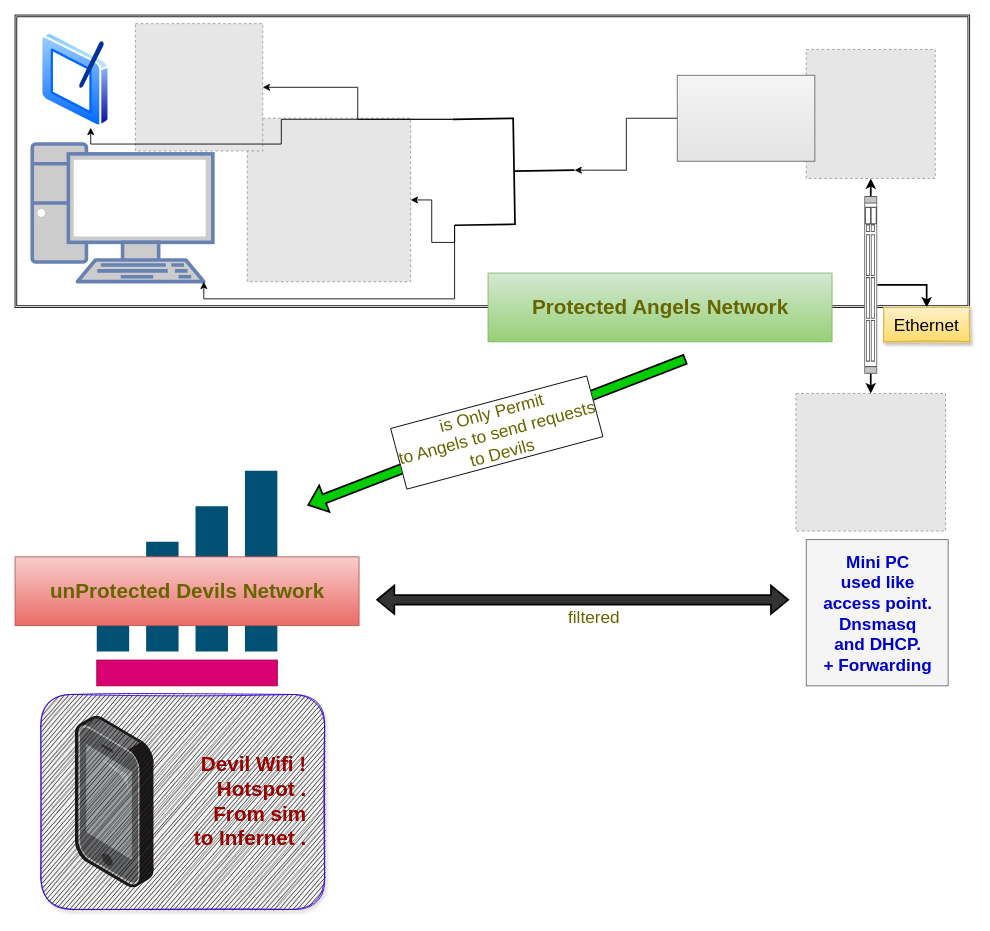
The diagram is 990 pixels wide and 931 high, and some of its shapes have lost their labels. Grey dashed boxes stand in for pictures. The shapes that lost their labels are listed below. From the top down, each one's centre as x and y in pixels, then its label:
At point 745,117: "LAN Repeater Extender".
At point 186,672: "using WIFI".
